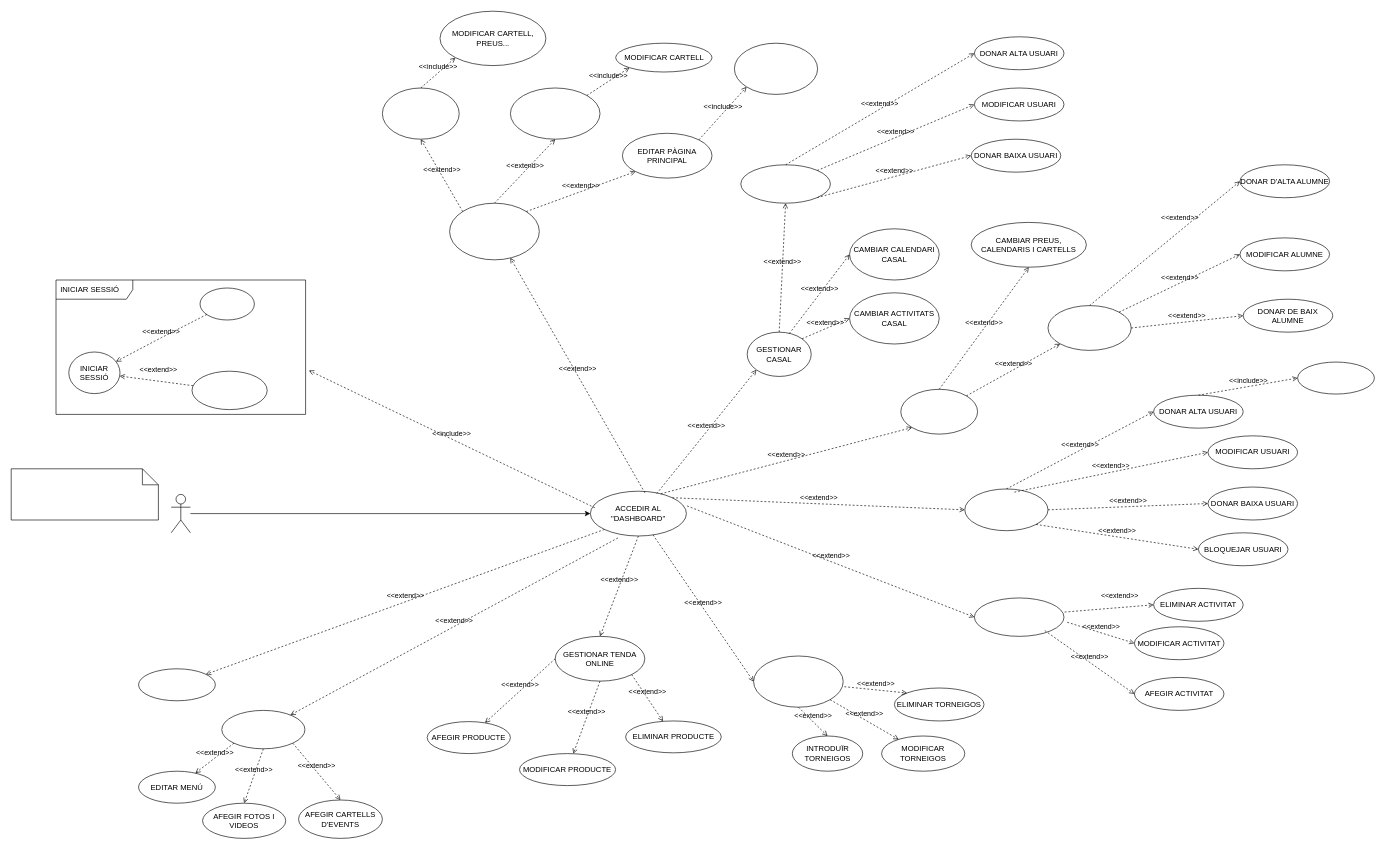
Some shapes in this 1386 by 850 pixel diagram are drawn without their labels. The box of each missing label's shape, as (x1, y1, x2, y2) in pixels:
Administrador: (171, 494, 190, 533)
CANCELAR: (199, 287, 254, 320)
EDITAR PÀGIINA SOCI: (382, 87, 459, 139)
EDITAR RESERVA PISTA: (510, 87, 600, 139)
ESCOLLIR ROL: (1297, 361, 1374, 394)
GESTIIONAR USUARIS: (964, 488, 1048, 531)
GESTIONAR ACTIVITATS: (974, 597, 1064, 636)
GESTIONAR ESCOLA: (900, 389, 978, 434)
GESTIONAR RESTAURANT: (221, 710, 305, 749)
GESTIONAR TORNEIGOS: (753, 655, 843, 707)
GESTIÓ D'INSCRITS: (1047, 305, 1131, 350)
GESTIÓ INSCRITS: (740, 164, 830, 203)
PER A PODER REALITZAR TOTES AQUESTES ACCIONS, PRIMER HA D'ACCEDIR AL DASHBOARD: (11, 468, 158, 520)
PERSONALITZAR PÀGINES: (449, 203, 539, 260)
PERSONALITZAR SLIDER: (734, 43, 818, 94)
RECUPERAR CONTRASENYA: (191, 371, 267, 410)
SORTIR/ LOG OUT: (138, 668, 215, 701)
